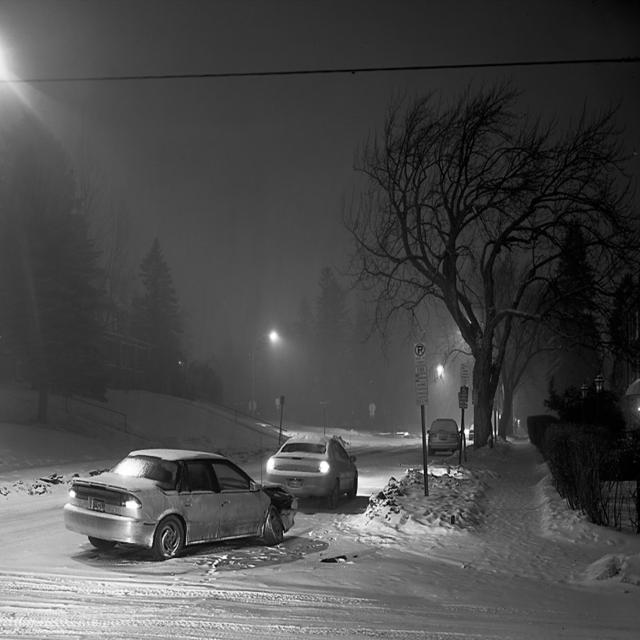Accident: (58, 449, 306, 564)
